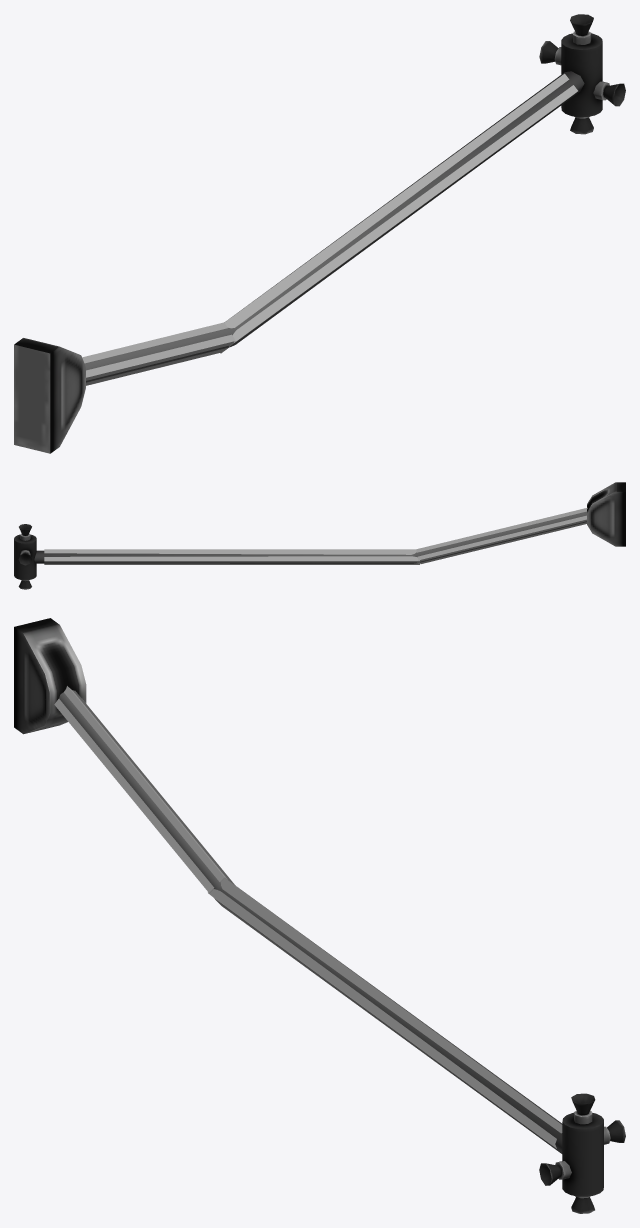
Rendered from Pioneer6_Boom_RCS.fbx.
3 renders of one model, top to bottom at view 1: azimuth 30°, elevation 25°; view 2: azimuth 150°, elevation 25°; view 3: azimuth 270°, elevation 25°, orthographic. The views are drawn at different scales.
Parts seen in each view (by area): view 1: pCylinder28, pCube1, pCylinder7, pCylinder27, pCylinder8; view 2: pCylinder28, pCylinder7, pCylinder27, pCube1, pCylinder8, pCylinder9; view 3: pCylinder28, pCylinder7, pCube1, pCylinder27, pCylinder8.
Part boxes in pixels (bbox=[...]): pCylinder28: bbox=[220, 73, 577, 353]; pCube1: bbox=[14, 338, 85, 453]; pCylinder7: bbox=[84, 71, 584, 382]; pCylinder27: bbox=[82, 322, 235, 385]; pCylinder8: bbox=[561, 33, 602, 117]; pCylinder28: bbox=[44, 549, 419, 564]; pCylinder7: bbox=[34, 511, 586, 563]; pCylinder27: bbox=[416, 507, 587, 563]; pCube1: bbox=[587, 482, 625, 546]; pCylinder8: bbox=[14, 534, 36, 580]; pCylinder9: bbox=[19, 524, 31, 540]; pCylinder28: bbox=[208, 878, 562, 1148]; pCylinder7: bbox=[59, 690, 562, 1153]; pCube1: bbox=[14, 618, 86, 734]; pCylinder27: bbox=[54, 686, 233, 893]; pCylinder8: bbox=[562, 1112, 603, 1196].
Bounding box in the file's own units: 0.9272 × 0.1878 × 0.5689.
2 materials, 1 textured.
